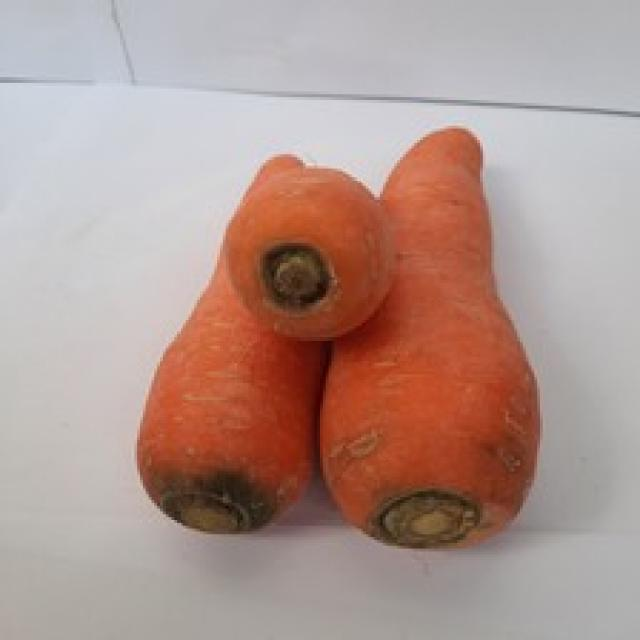carrot: (317, 119, 568, 548), (138, 149, 311, 536), (216, 160, 396, 344)
